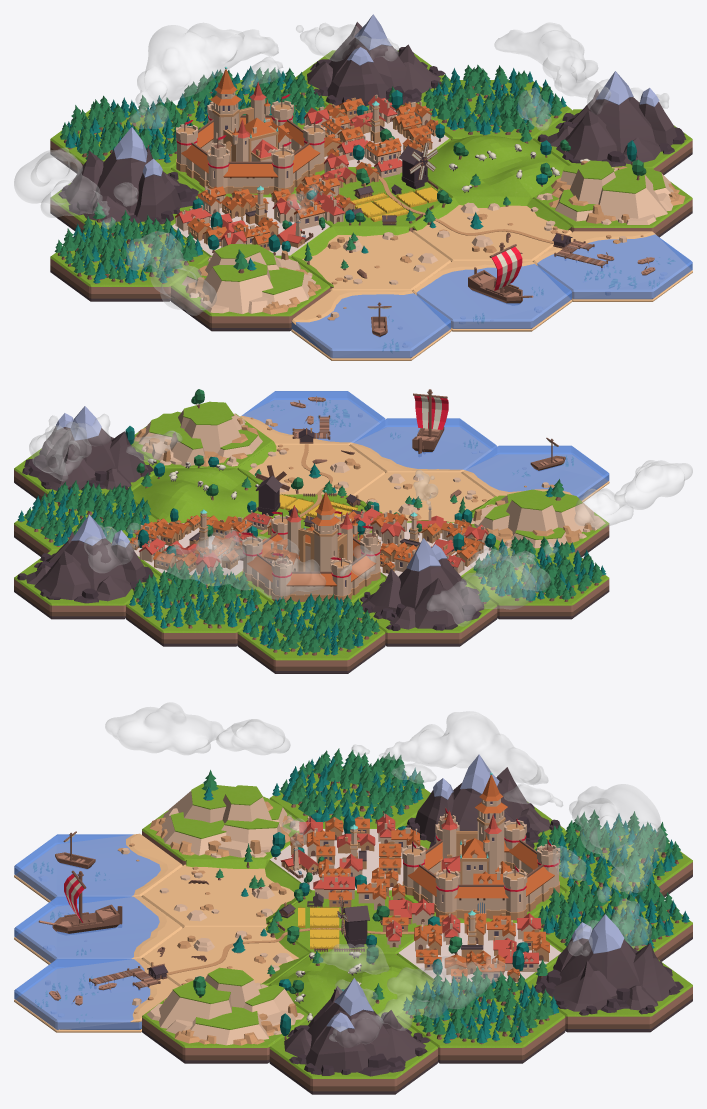
Rendered from pavel_alembekov_hw9_complex_sketchfab.fbx.
3 views of the same model, one above another, from view 1: azimuth 30°, elevation 25°; view 2: azimuth 150°, elevation 25°; view 3: azimuth 270°, elevation 25° (orthographic). The views are drawn at different scales.
Visible parts, largest first — view 1: Cloud3, Mountains 3, Mountains 2, Hex.water, Mountains 1, Rocks 1, Forest.003, Hex.water.002, Hex.waterline.002, Rocks 2, Forest, Hex.water.001 (+49 smaller); view 2: Cloud3, Mountains 2, Mountains 1, Mountains 3, Forest.002, Forest.001, Rocks 2, Forest.003, Cloud2, Rocks 1, Forest, Hex.water (+47 smaller); view 3: Mountains 1, Cloud3, Mountains 3, Rocks 2, Rocks 1, Forest, Forest.003, Hex.water.002, Forest.002, Cloud2, Cloud5, Hex.water (+48 smaller).
Boxes of the visible parts, box(x1,y1,x2,y2) form: Cloud3: box(129, 23, 282, 128); Mountains 3: box(537, 71, 686, 166); Mountains 2: box(58, 127, 198, 224); Hex.water: box(291, 293, 450, 358); Mountains 1: box(307, 14, 445, 106); Rocks 1: box(182, 244, 321, 314); Forest.003: box(54, 210, 202, 284); Hex.water.002: box(537, 234, 692, 299); Hex.waterline.002: box(292, 290, 450, 358); Rocks 2: box(536, 160, 685, 224); Forest: box(423, 64, 566, 135); Hex.water.001: box(416, 264, 571, 328); Cloud3: box(154, 530, 375, 599); Mountains 2: box(360, 538, 484, 630); Mountains 1: box(17, 514, 153, 603); Mountains 3: box(22, 406, 153, 492); Forest.002: box(242, 593, 380, 656); Forest.001: box(129, 561, 261, 628); Rocks 2: box(134, 401, 262, 466); Forest.003: box(473, 536, 606, 602); Cloud2: box(427, 542, 557, 626); Rocks 1: box(470, 489, 605, 548); Forest: box(17, 480, 151, 546); Hex.water: box(466, 445, 609, 500); Mountains 1: box(534, 914, 683, 1015); Cloud3: box(503, 783, 665, 892); Mountains 3: box(284, 978, 430, 1076); Rocks 2: box(146, 967, 303, 1045); Rocks 1: box(149, 783, 299, 857); Forest: box(402, 966, 559, 1044); Forest.003: box(272, 748, 424, 823); Hex.water.002: box(14, 959, 150, 1029); Forest.002: box(535, 809, 682, 887); Cloud2: box(351, 711, 548, 784); Cloud5: box(329, 956, 506, 1047); Hex.water: box(14, 834, 160, 903).
Size of the model in its own units: 435 by 81.71 by 399.
